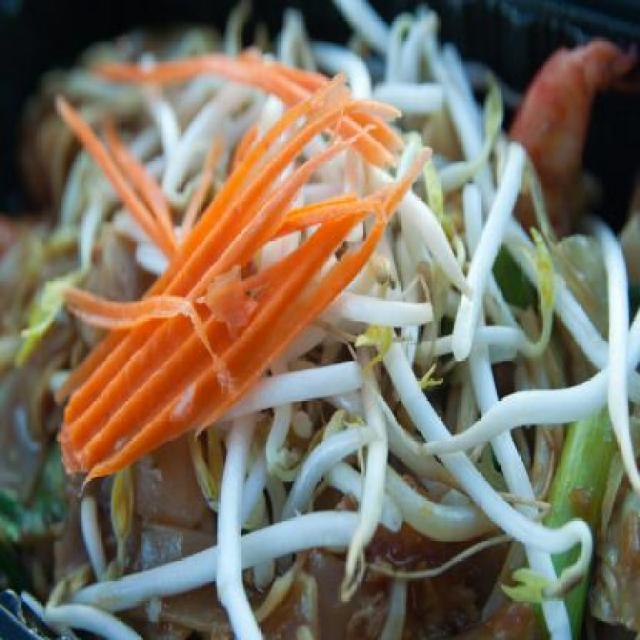Carrot: (76, 75, 438, 528)
